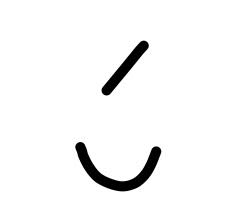i: (85, 28, 158, 104)
n: (68, 132, 172, 198)
